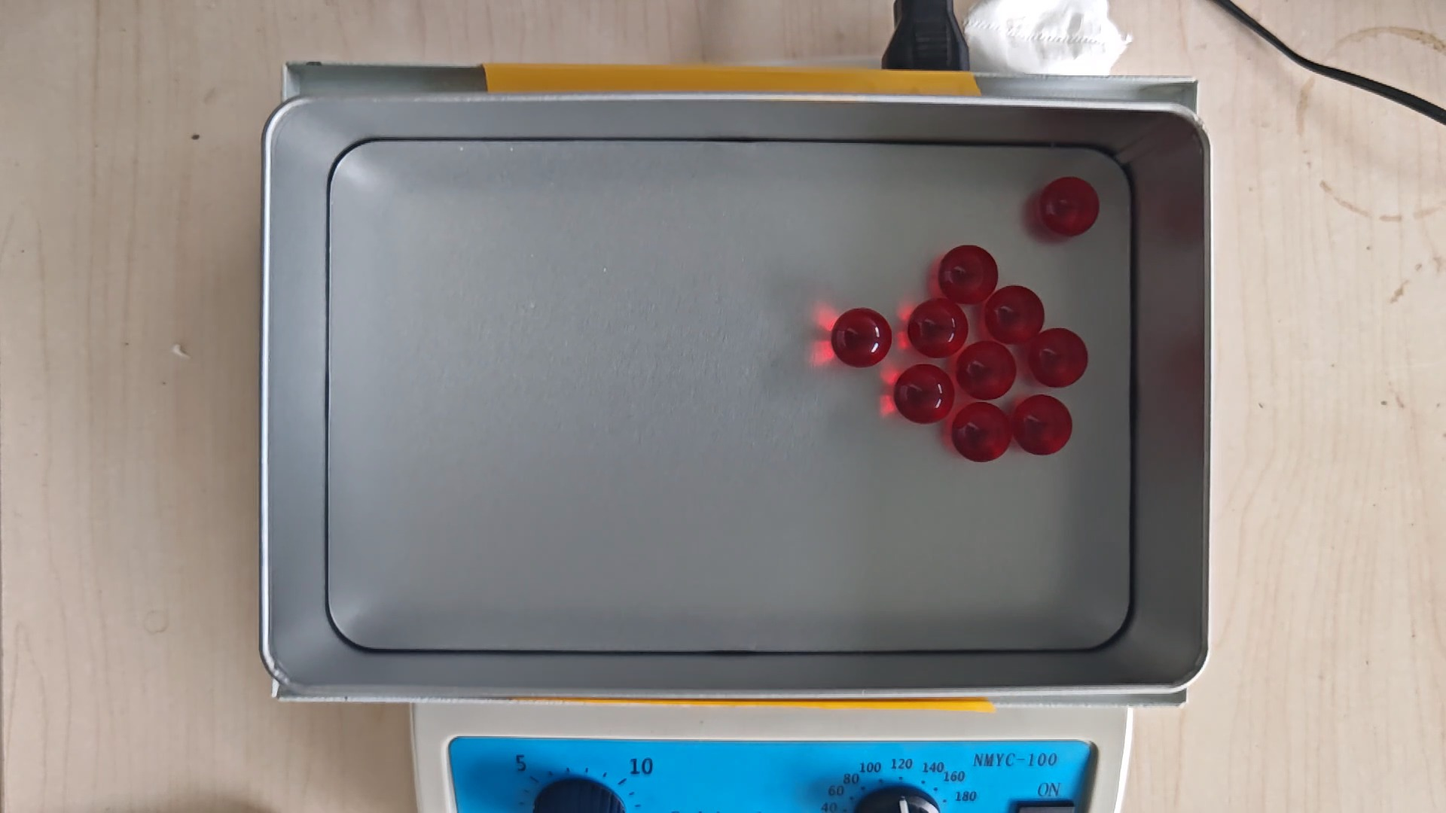ball: (894, 363, 955, 426), (908, 299, 970, 359), (1013, 395, 1073, 456), (1039, 176, 1099, 237), (953, 402, 1012, 464), (832, 307, 891, 368), (1030, 327, 1088, 388), (958, 340, 1016, 400), (939, 244, 998, 302), (986, 285, 1044, 343)
container: (326, 140, 1133, 652)
